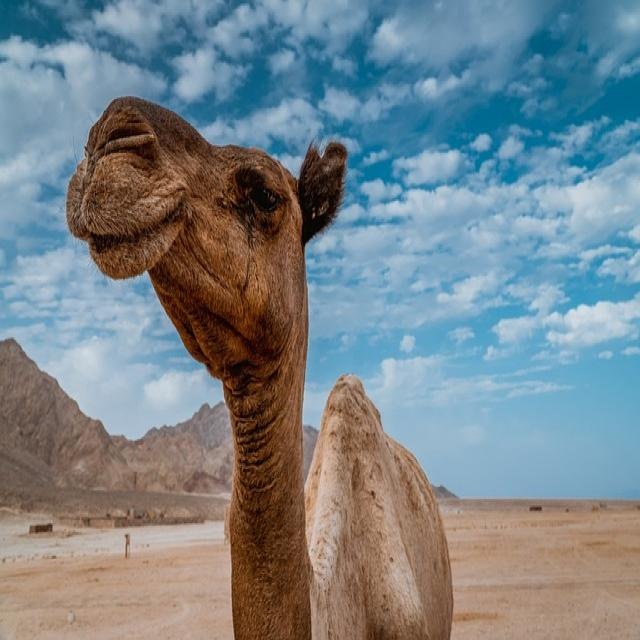Herbivorous: (66, 99, 455, 640)
